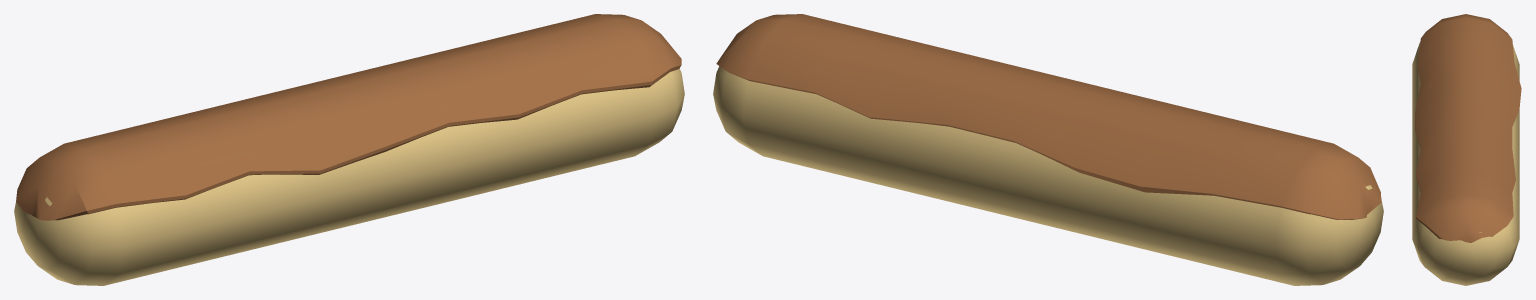
The model's file is eclair_UVed.fbx.
3 views of the same model, side by side, from view 1: azimuth 30°, elevation 25°; view 2: azimuth 150°, elevation 25°; view 3: azimuth 270°, elevation 25° (orthographic). The views are drawn at different scales.
Visible parts, largest first — view 1: pCylinder32, pCylinder31; view 2: pCylinder32, pCylinder31; view 3: pCylinder32, pCylinder31.
Part boxes in pixels (x1,y1,x2,y2): pCylinder32: [16, 14, 681, 220]; pCylinder31: [14, 68, 684, 285]; pCylinder32: [716, 14, 1381, 219]; pCylinder31: [713, 52, 1383, 285]; pCylinder32: [1415, 14, 1521, 242]; pCylinder31: [1412, 42, 1519, 285].
Bounding box in the file's own units: 10.15 × 1.96 × 2.21.
